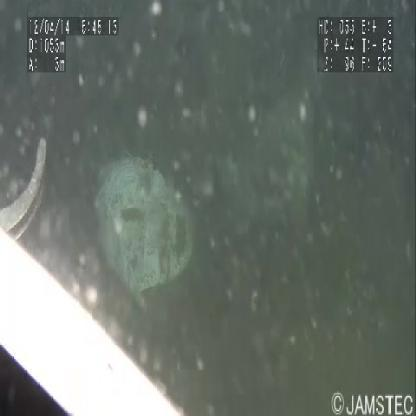Rác: (96, 153, 193, 318)
